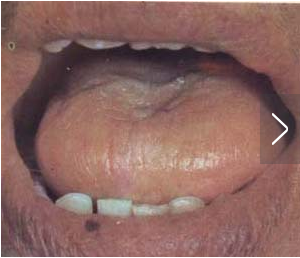baitaishe: (35, 62, 286, 201)
liewenshe: (106, 134, 115, 173)
piweiao: (115, 79, 189, 118)
